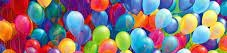Balloon: (66, 10, 84, 34), (92, 24, 110, 44), (179, 14, 197, 34), (191, 25, 209, 44), (15, 15, 31, 36), (130, 28, 147, 47), (155, 8, 171, 28), (27, 1, 43, 21), (116, 13, 133, 30), (161, 35, 177, 53), (58, 38, 76, 53), (50, 24, 65, 42), (141, 1, 159, 16), (116, 31, 130, 50), (99, 38, 116, 53), (91, 10, 109, 24), (209, 22, 224, 38), (1, 21, 12, 42), (202, 10, 217, 25), (90, 1, 110, 11)
